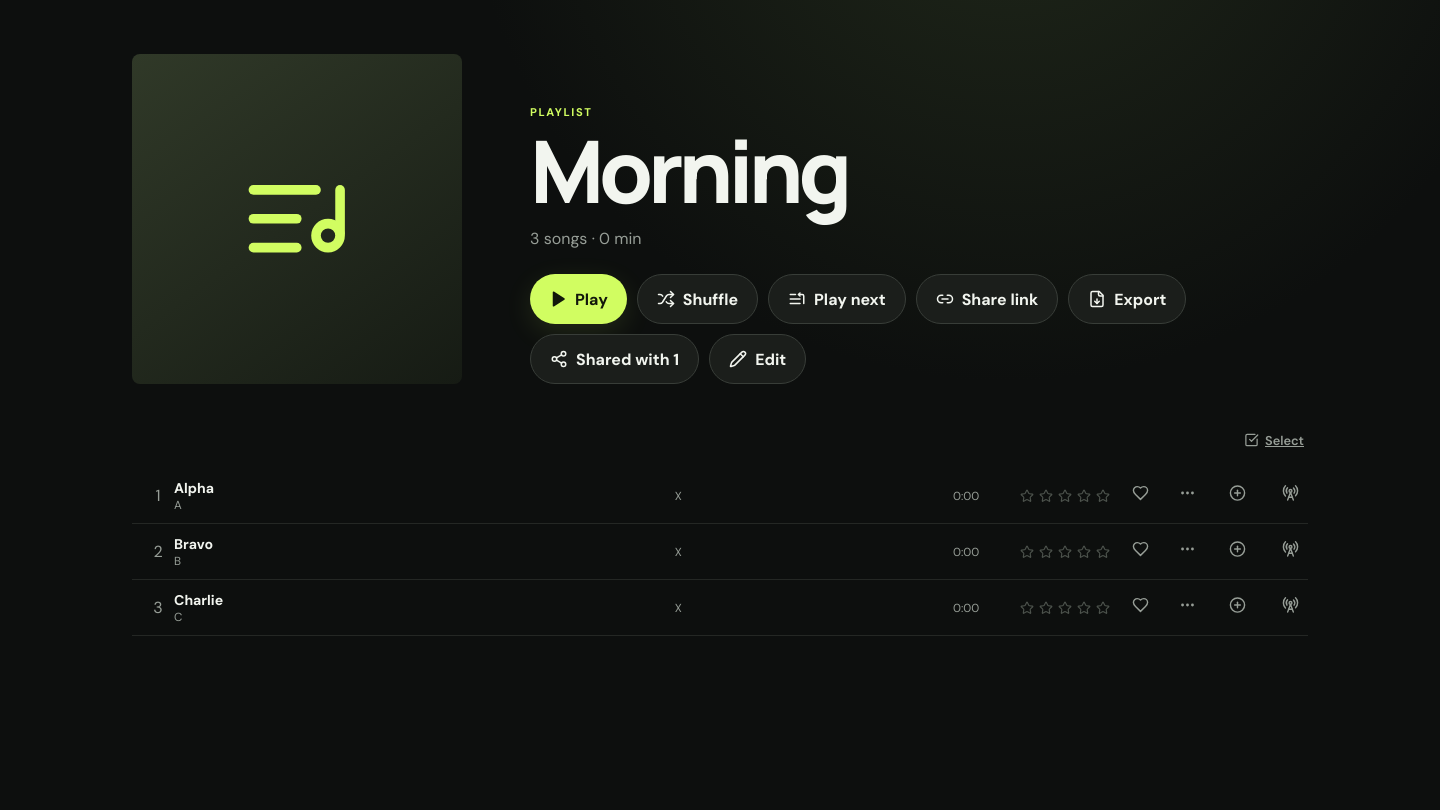
PlaylistDetail editing › renames the playlist
Step 1. Click the button "Edit" → coordinates (758, 359), box [709, 334, 806, 384]
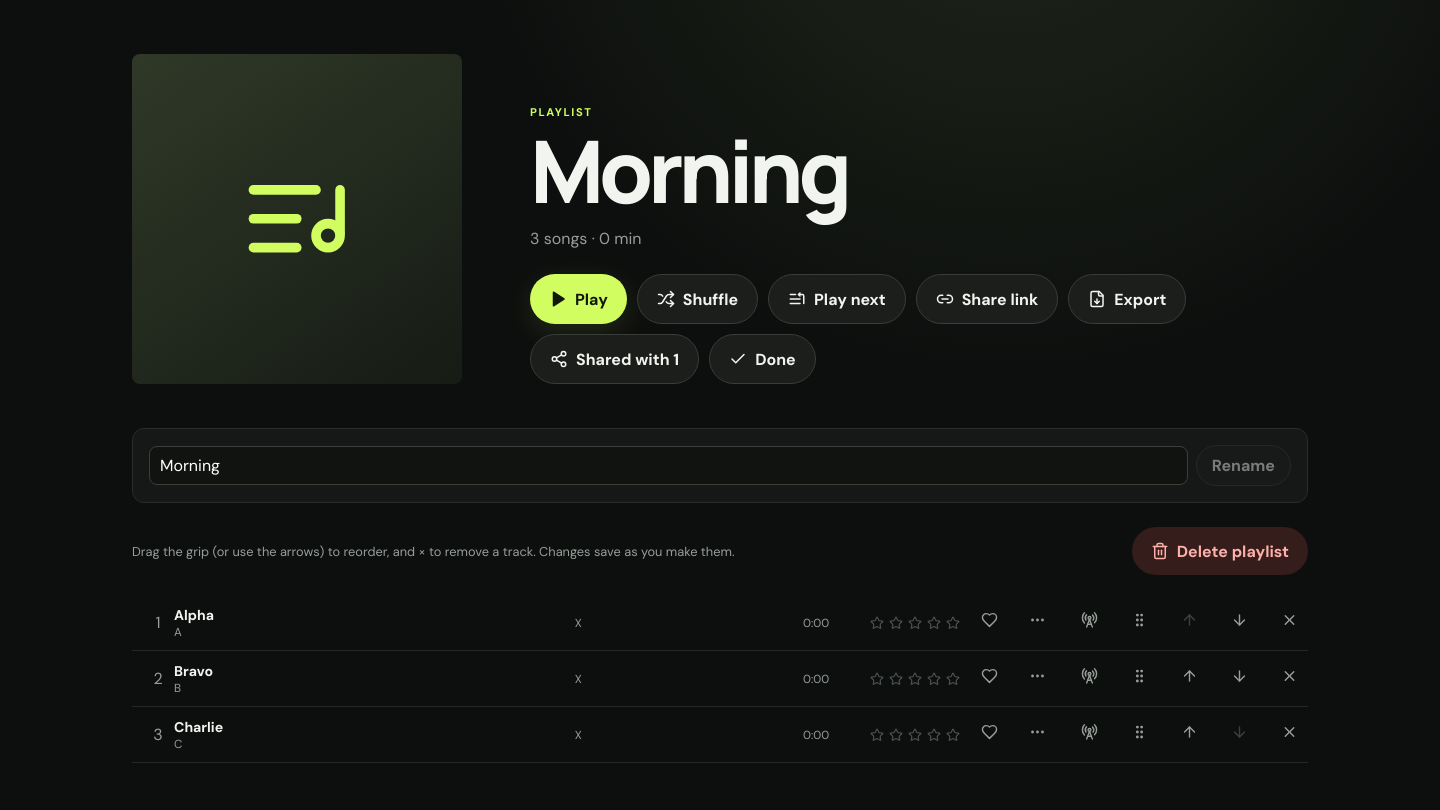
Step 2. Replace the text in the field named "Playlist name" with "Evening" → coordinates (668, 466), box [149, 446, 1188, 485]
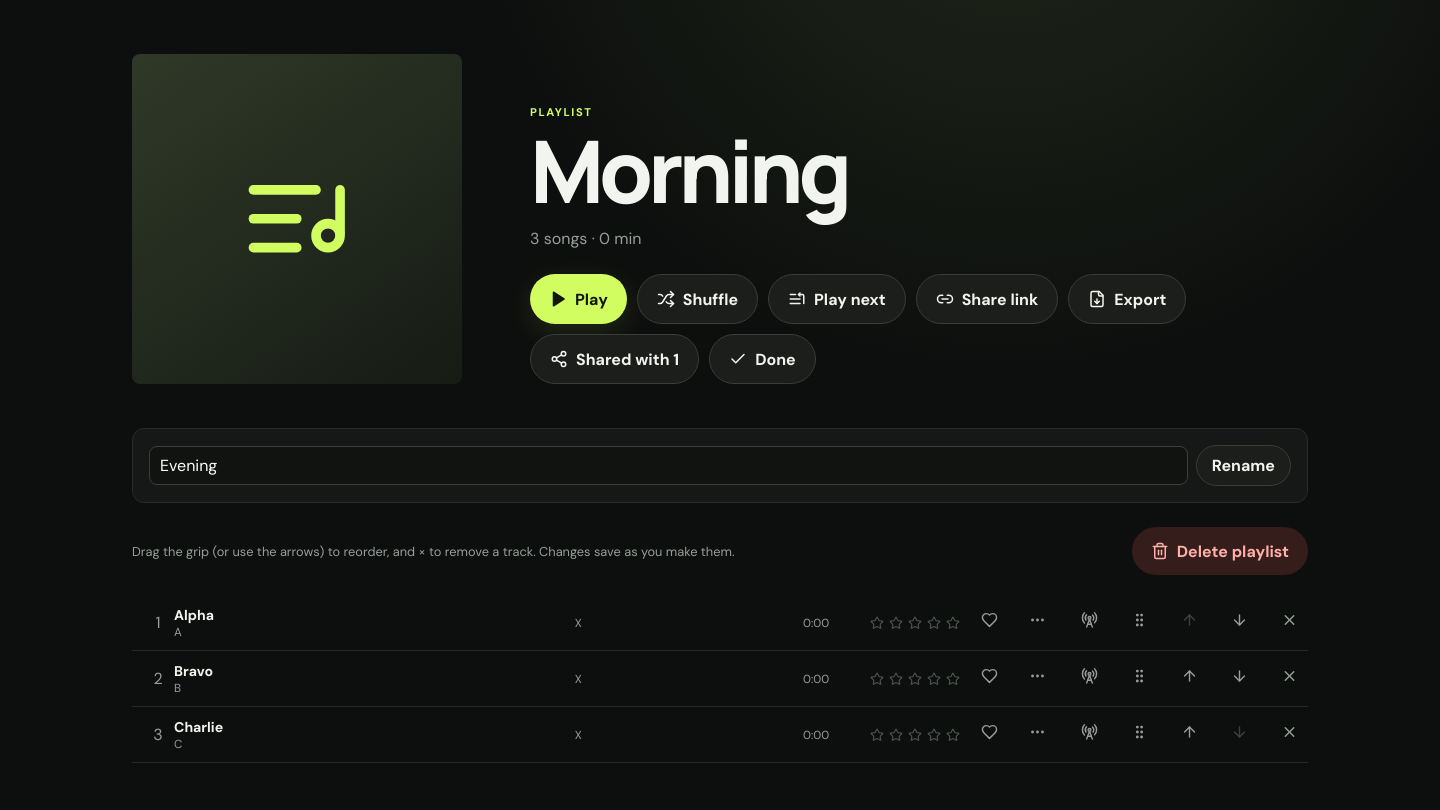
Step 3. Click the button "Rename" → coordinates (1243, 466), box [1196, 445, 1291, 486]
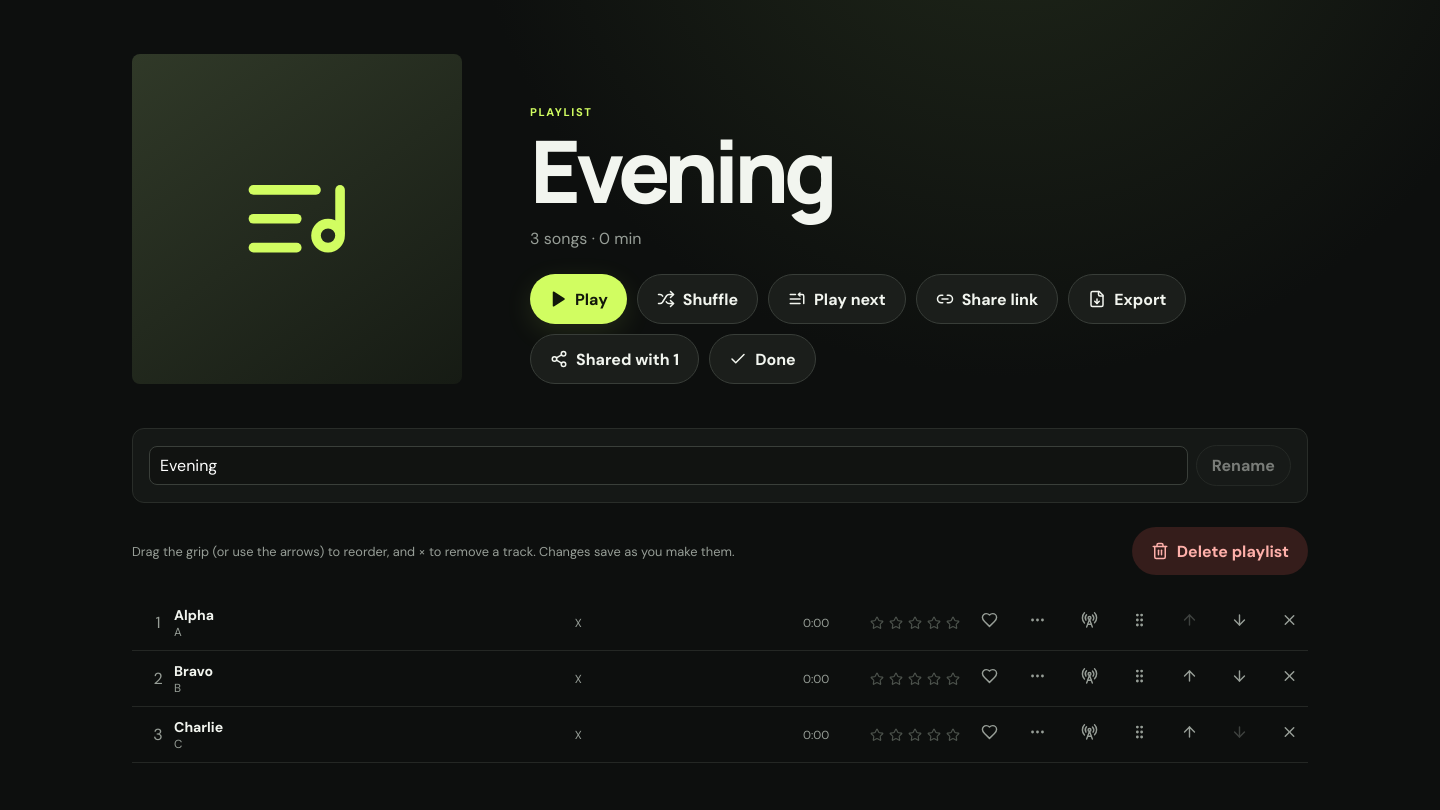
Result: the heading "Evening" is shown at [530, 111, 833, 229]
